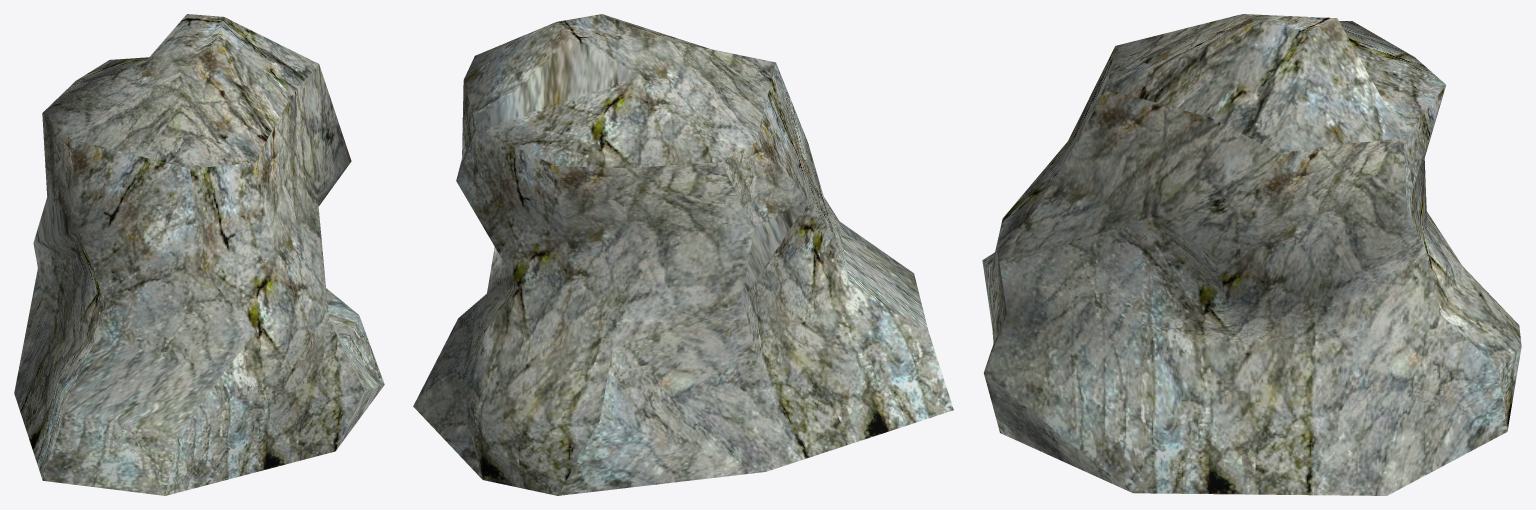
The model's file is general_obj_bigstone05.fbx.
3 renders of one model, left to right at view 1: azimuth 30°, elevation 25°; view 2: azimuth 150°, elevation 25°; view 3: azimuth 270°, elevation 25°, orthographic. The views are drawn at different scales.
Visible parts, largest first — view 1: Sphere01; view 2: Sphere01; view 3: Sphere01.
Part boxes in pixels (<box>): Sphere01: <box>14,14,384,495</box>; Sphere01: <box>413,14,953,495</box>; Sphere01: <box>982,14,1521,495</box>.
Size of the model in its own units: 17.47 by 15.74 by 18.79.
